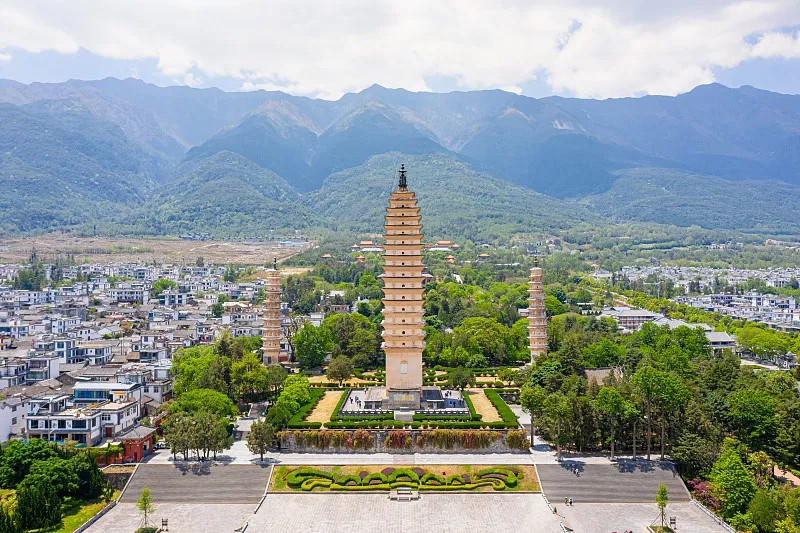ThreePagoda: (380, 162, 427, 397)
